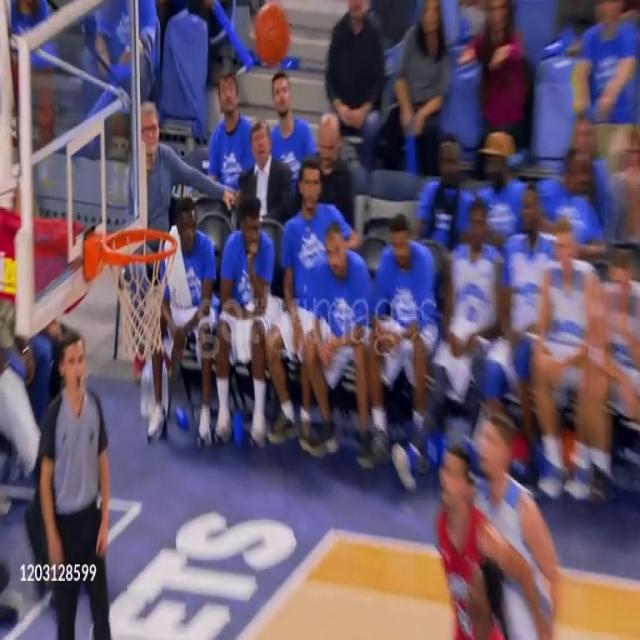ball: (252, 3, 291, 70)
